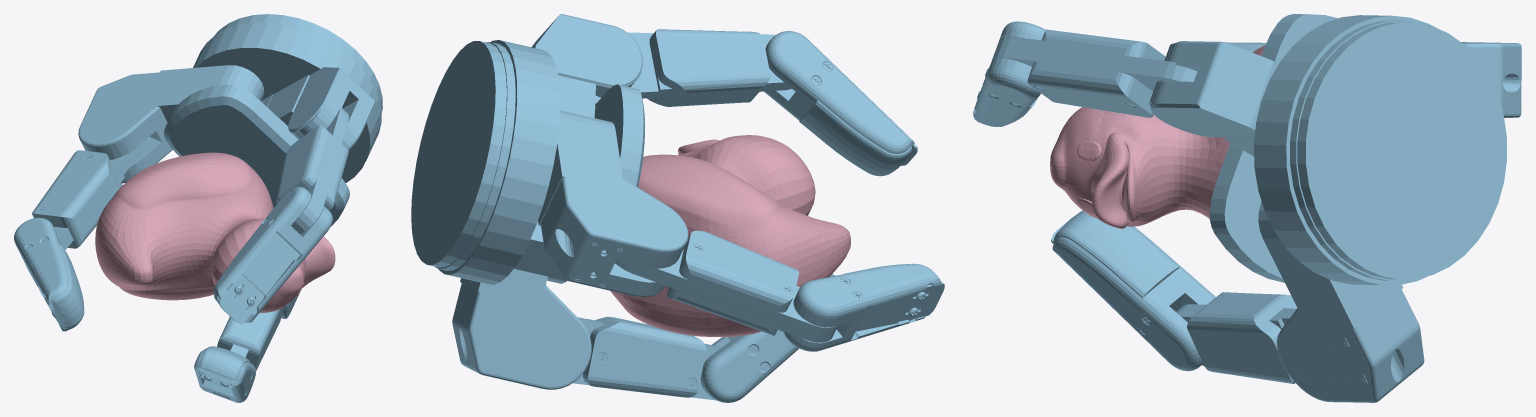
The picture shows the model from 3 angles, left to right: view 1: azimuth 30°, elevation 25°; view 2: azimuth 150°, elevation 25°; view 3: azimuth 270°, elevation 25°; orthographic projection. The views are drawn at different scales.
Visible parts, largest first — view 1: world, rubber_duck.stl; view 2: world, rubber_duck.stl; view 3: world, rubber_duck.stl.
Part boxes in pixels (x1,y1,x2,y2): world: (14,14,382,402); rubber_duck.stl: (95,152,335,312); world: (411,14,944,402); rubber_duck.stl: (610,135,850,336); world: (973,14,1521,402); rubber_duck.stl: (1050,45,1265,228).
Size of the model in its own units: 0.1981 by 0.1527 by 0.1809.
